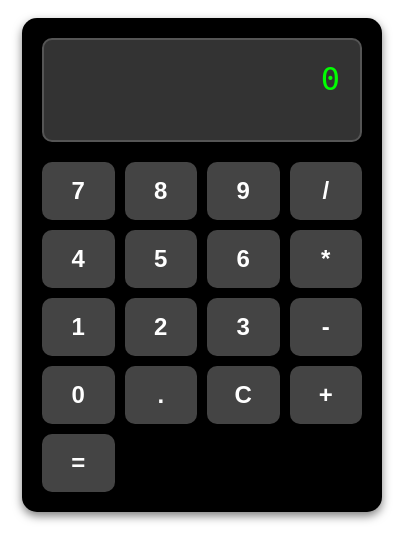
Test: Clears the display when C is pressed
Note: Press a number
What coordinates should you click on to do the following:
click the button "1"
I would click on:
 (78, 327)
Its box is [42, 298, 114, 356].
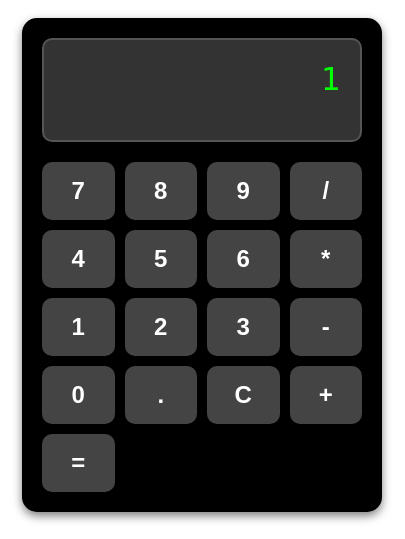
Expected: the text with test id "total" reads "1", [321, 60, 340, 98]
Note: Press the C button
What coordinates should you click on to do the following:
click the button "C"
I would click on:
 (243, 395)
Its box is [207, 366, 280, 424].
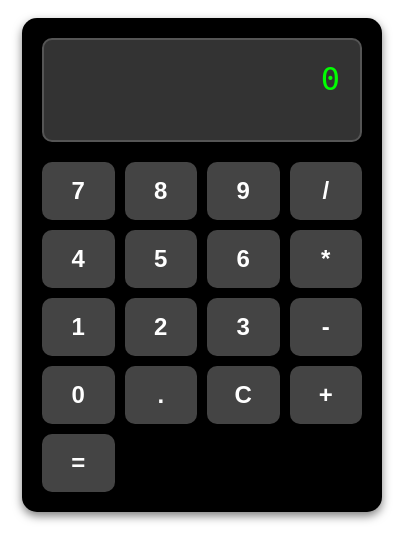
Expected: the text with test id "total" reads "0", [321, 60, 340, 98]
